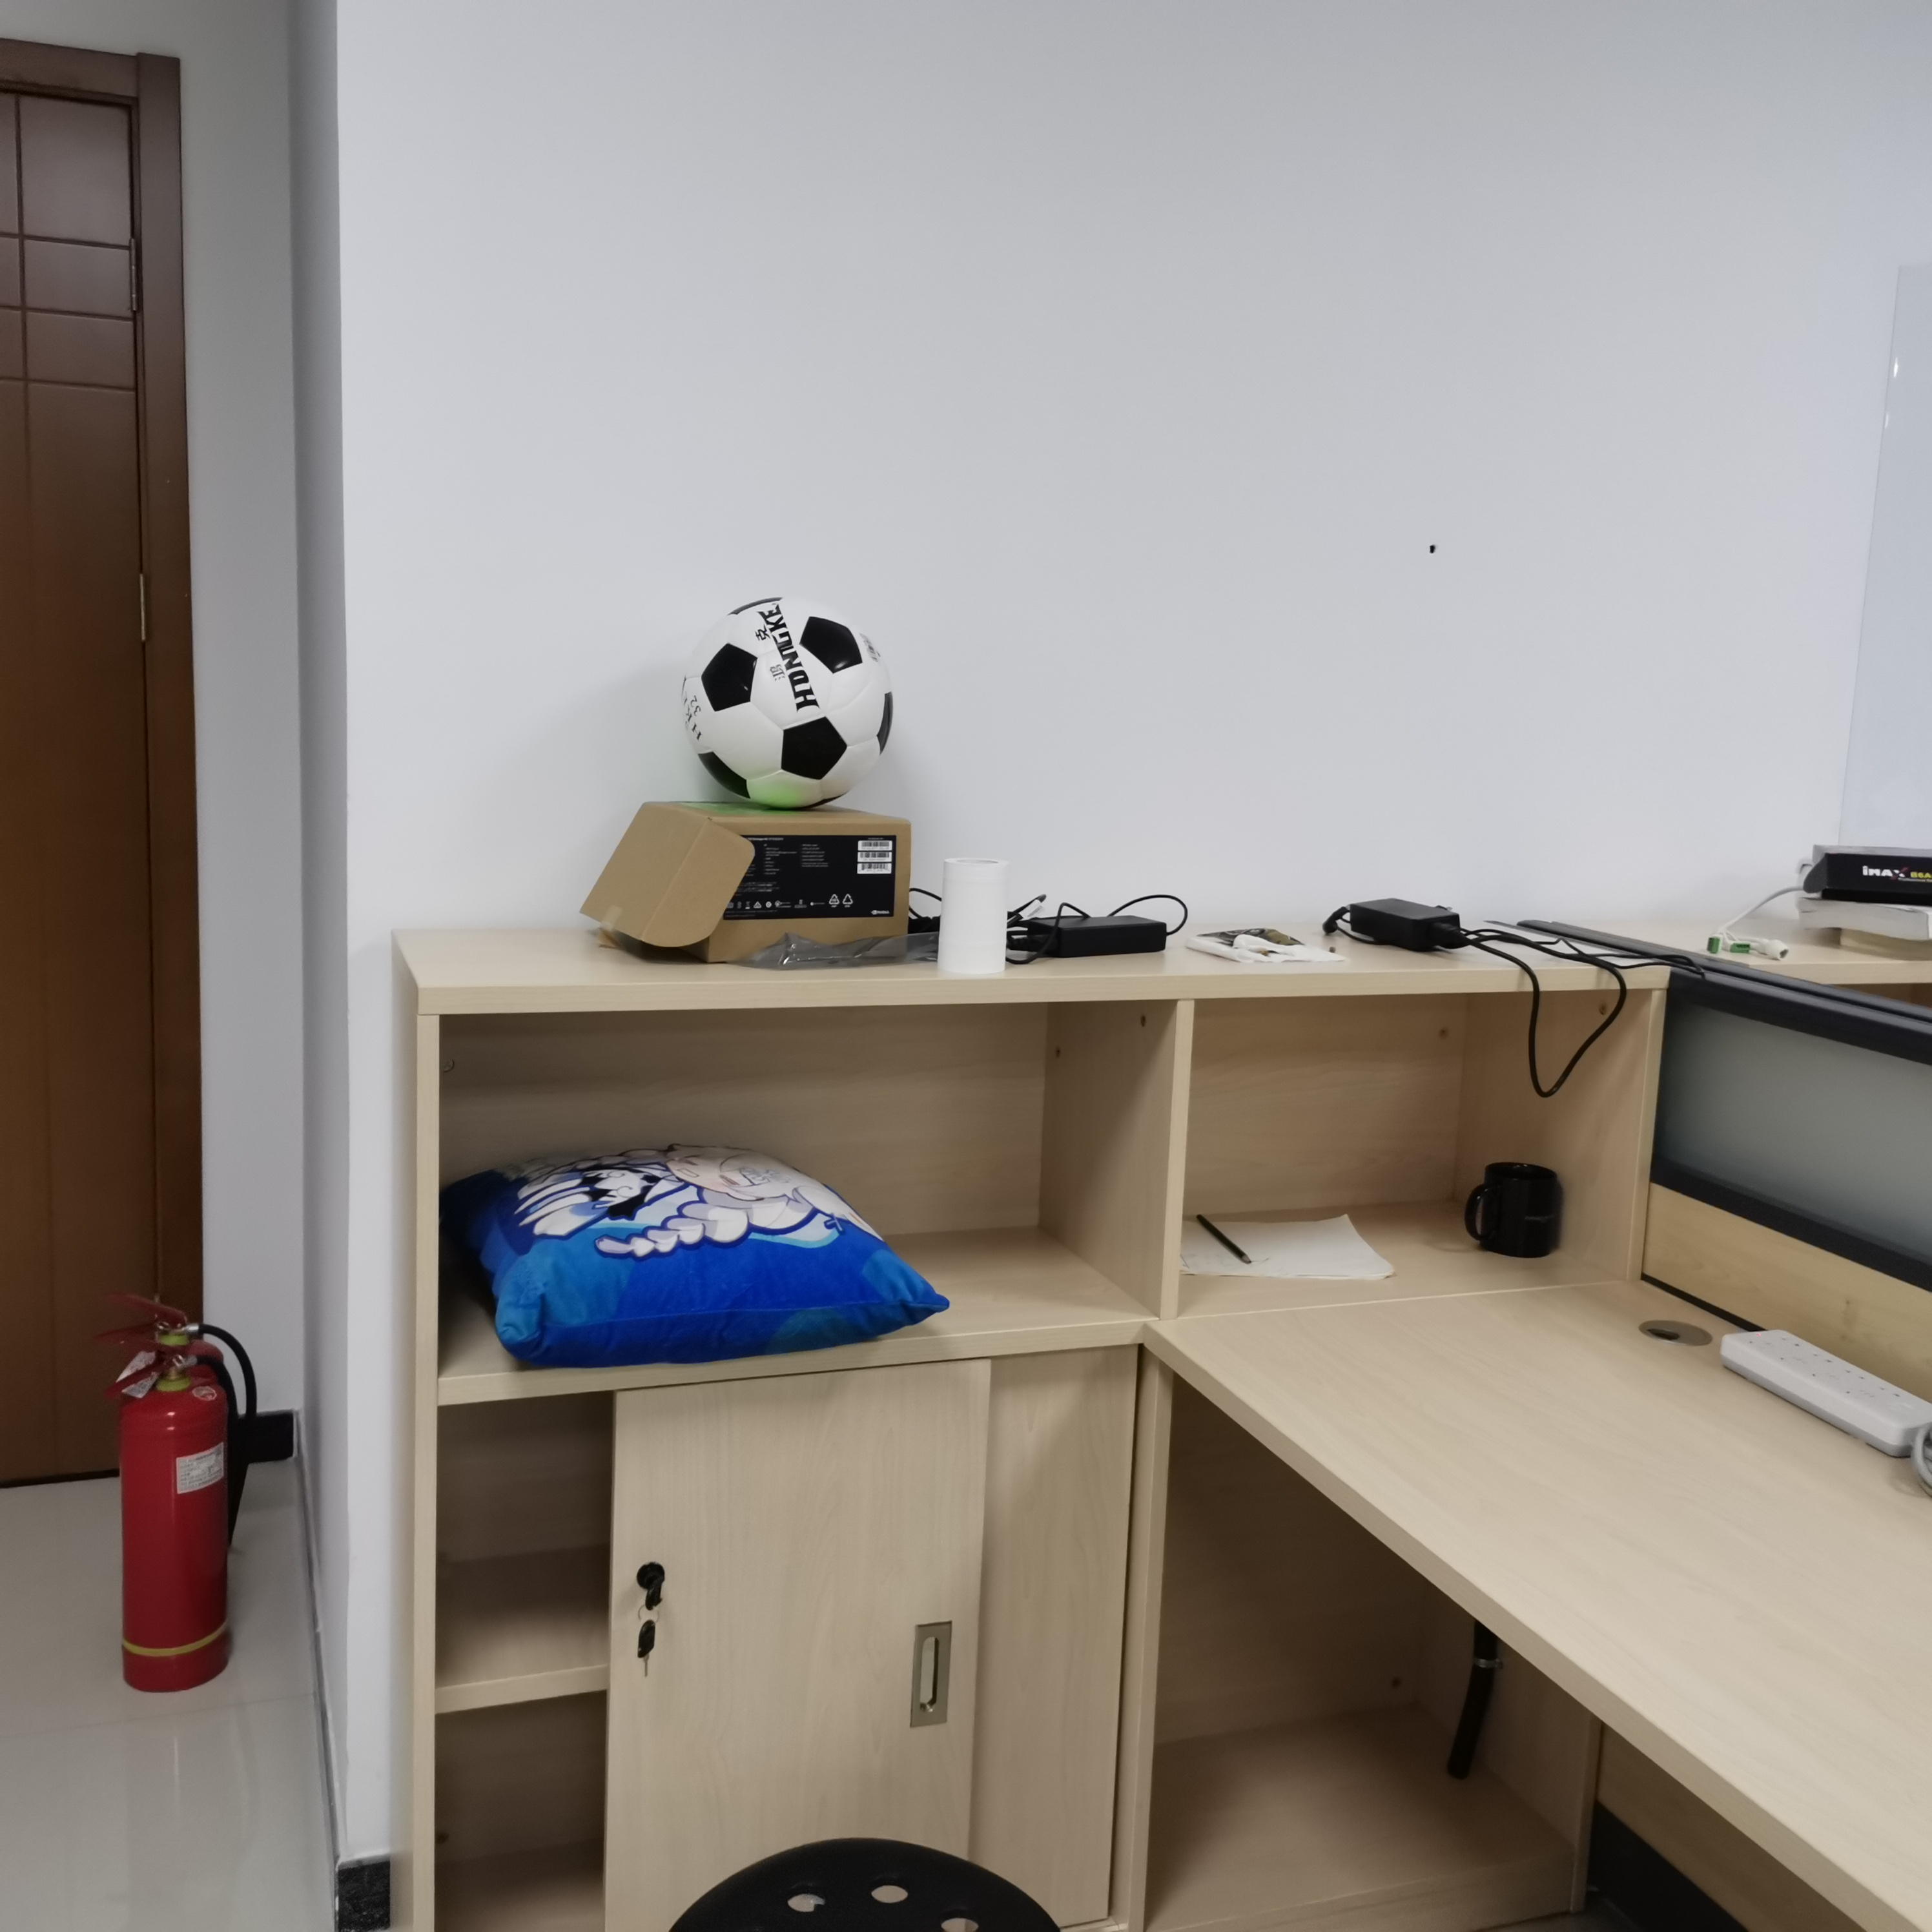football: (679, 596, 893, 810)
